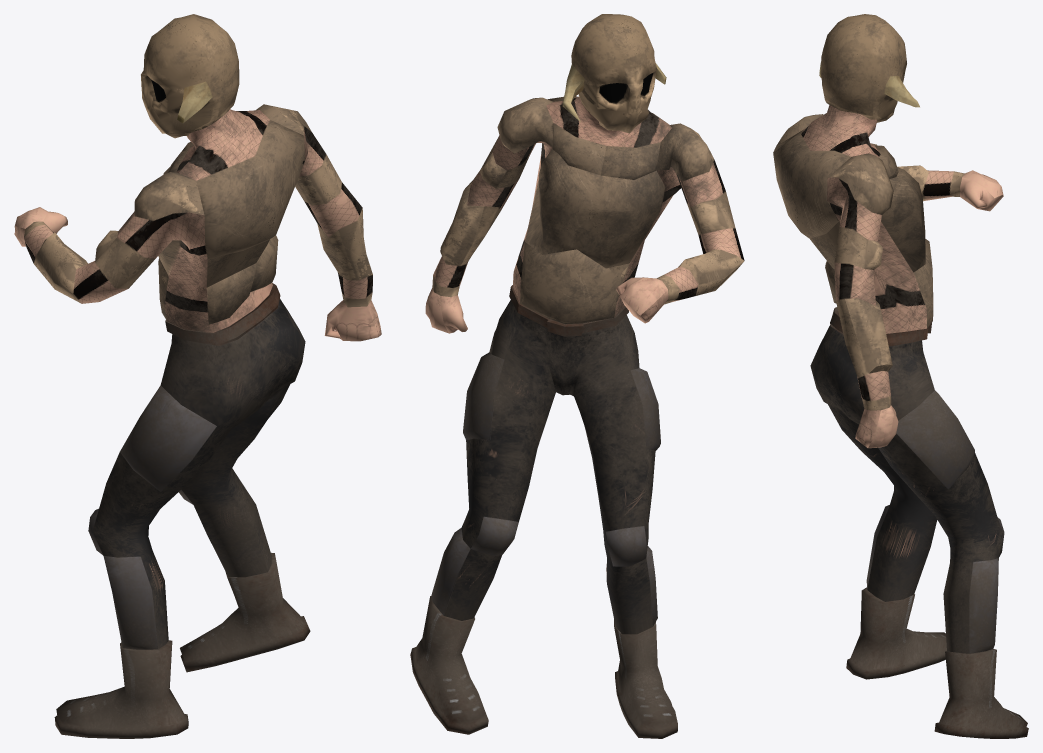
Rendered from Anim_ataque_f3_npc1.0039.obj.
3 renders of one model, left to right at view 1: azimuth 30°, elevation 25°; view 2: azimuth 150°, elevation 25°; view 3: azimuth 270°, elevation 25°, orthographic. The views are drawn at different scales.
Visible parts, largest first — view 1: NPC2; view 2: NPC2; view 3: NPC2.
Boxes of the visible parts, x1=… form: NPC2: x1=14, y1=14, x2=381, y2=738; NPC2: x1=410, y1=14, x2=744, y2=738; NPC2: x1=773, y1=14, x2=1028, y2=738.
Bounding box in the file's own units: 4.35 × 9.34 × 3.18.
